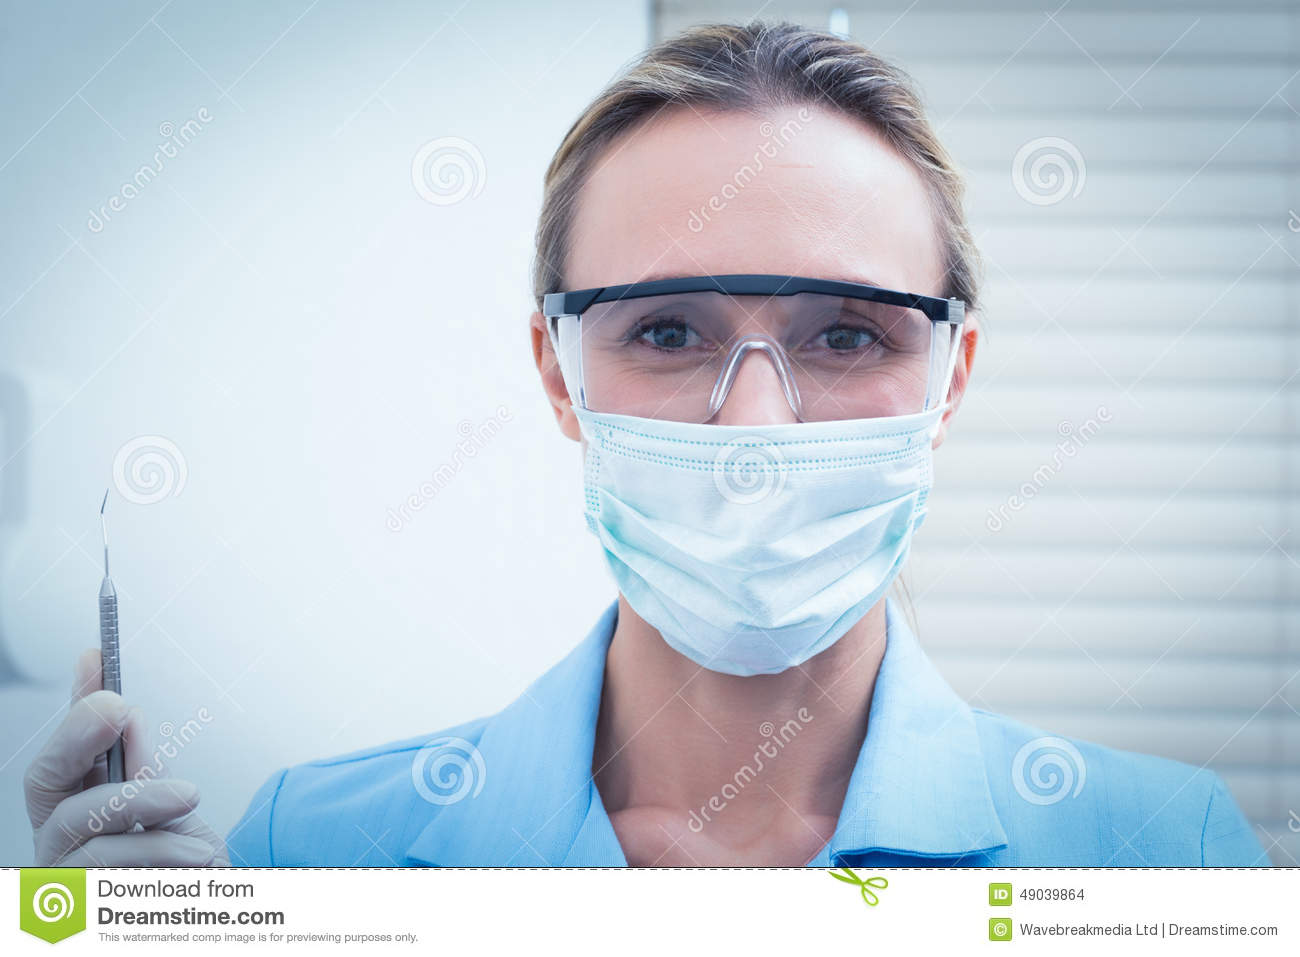mask: (553, 410, 954, 683)
